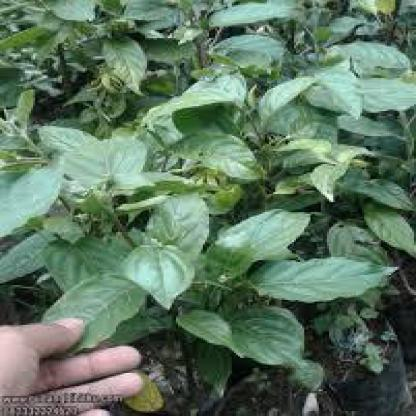Melati: (168, 83, 214, 107)
